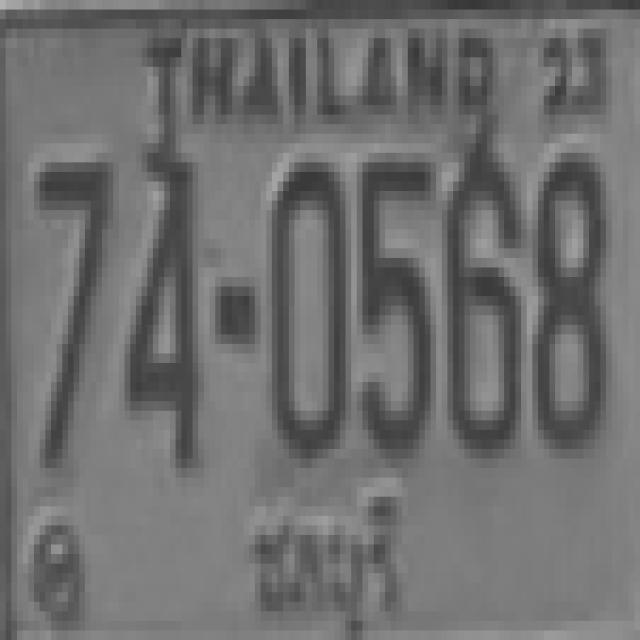0: (266, 158, 346, 454)
4: (118, 134, 198, 458)
5: (356, 153, 431, 449)
6: (442, 143, 516, 449)
7: (34, 158, 108, 464)
8: (530, 148, 604, 444)
Chonburi: (243, 486, 413, 638)
